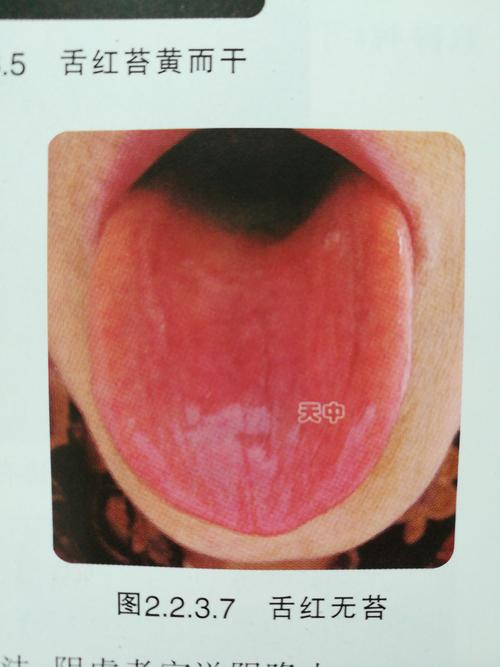hongshe: (89, 175, 411, 537)
shenquao: (149, 175, 359, 259)
